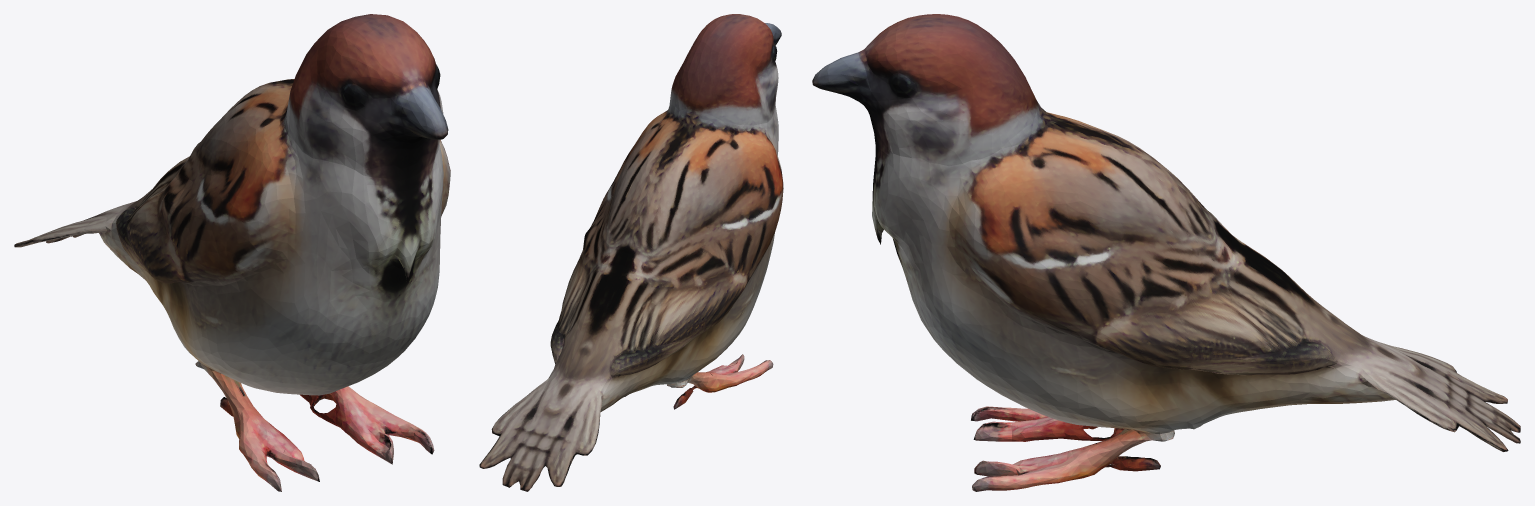
File: this is sparrow.glb
3 renders of one model, left to right at view 1: azimuth 30°, elevation 25°; view 2: azimuth 150°, elevation 25°; view 3: azimuth 270°, elevation 25°, orthographic. The views are drawn at different scales.
Parts seen in each view (by area): view 1: world; view 2: world; view 3: world.
Part boxes in pixels (x1=…): world: x1=14, y1=14, x2=450, y2=491; world: x1=479, y1=14, x2=783, y2=491; world: x1=812, y1=14, x2=1520, y2=491.
Bounding box in the file's own units: 0.3388 × 0.6807 × 1.
Materials: 1 (1 with a texture image).
